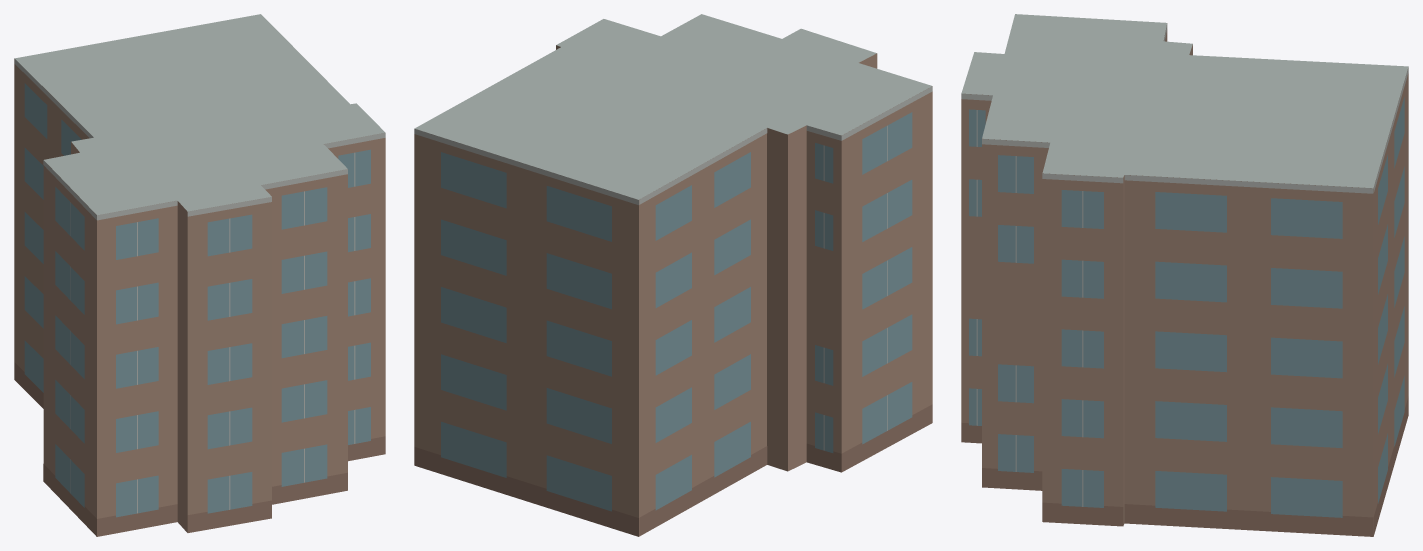
Rendered from survey-upis-32658979.glb.
3 views of the same model, side by side, from view 1: azimuth 30°, elevation 25°; view 2: azimuth 150°, elevation 25°; view 3: azimuth 270°, elevation 25° (orthographic). The views are drawn at different scales.
Visible parts, largest first — view 1: survey-upis-32658979.tmp; view 2: survey-upis-32658979.tmp; view 3: survey-upis-32658979.tmp.
Boxes of the visible parts, x1=… form: survey-upis-32658979.tmp: x1=14, y1=14, x2=385, y2=536; survey-upis-32658979.tmp: x1=414, y1=14, x2=932, y2=536; survey-upis-32658979.tmp: x1=961, y1=14, x2=1408, y2=536.
Bounding box in the file's own units: 16.35 × 15.25 × 17.74.
